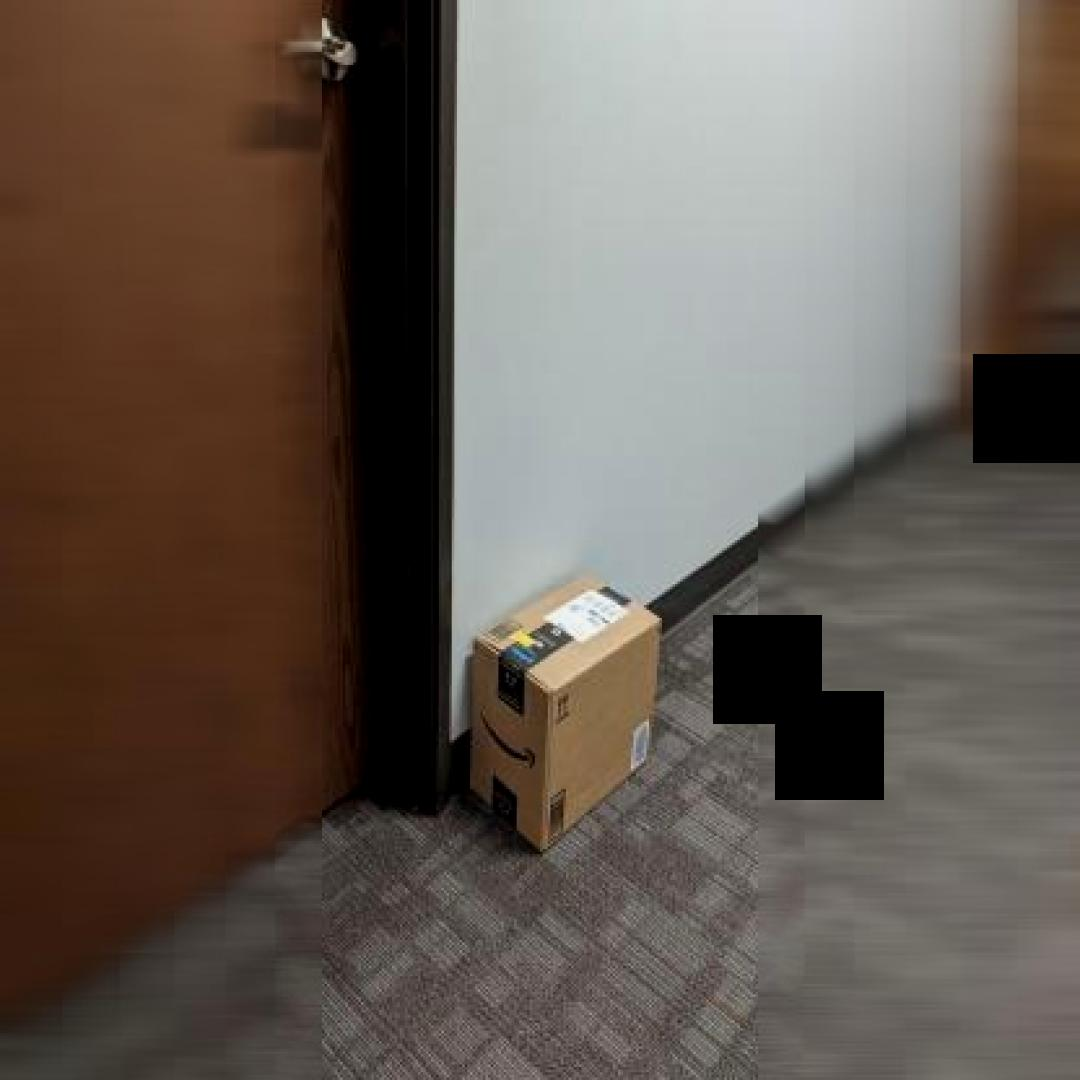package: (459, 566, 668, 854)
